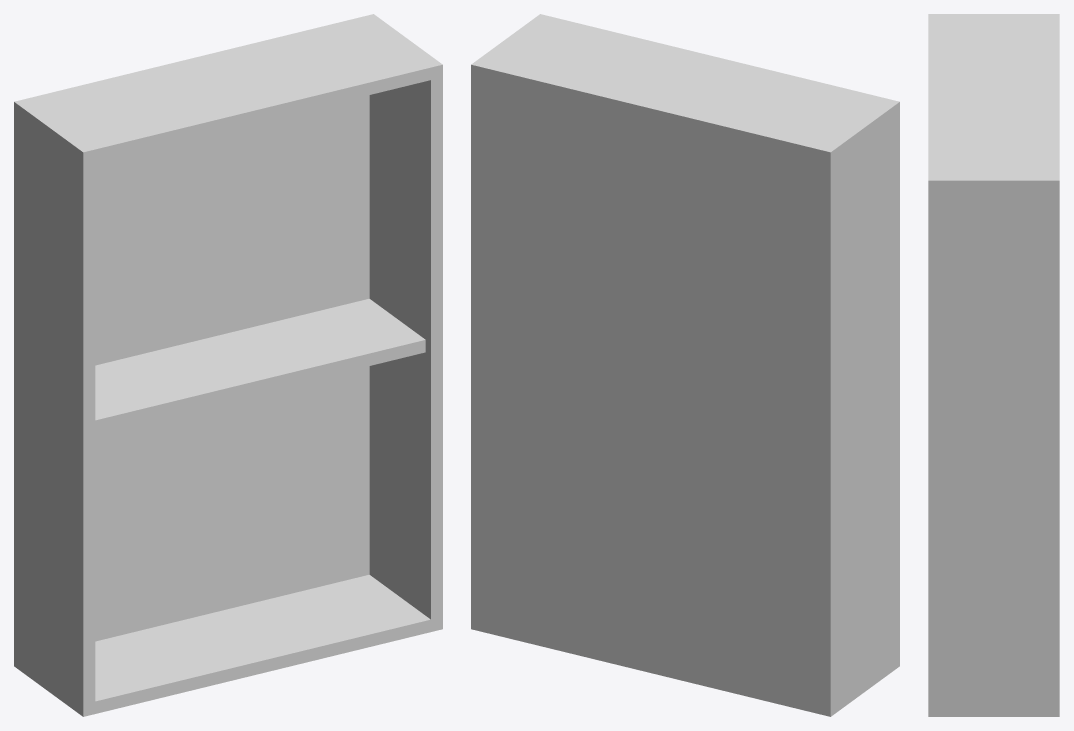
The model's file is Bathroom_C1_05.fbx.
3 renders of one model, left to right at view 1: azimuth 30°, elevation 25°; view 2: azimuth 150°, elevation 25°; view 3: azimuth 270°, elevation 25°, orthographic. The views are drawn at different scales.
Visible parts, largest first — view 1: Bathroom_C1_05; view 2: Bathroom_C1_05; view 3: Bathroom_C1_05.
Boxes of the visible parts, x1,y1,x2,y2 form: Bathroom_C1_05: (14,14,442,716); Bathroom_C1_05: (471,14,899,716); Bathroom_C1_05: (928,14,1059,716).
Size of the model in its own units: 60 by 90 by 20.
